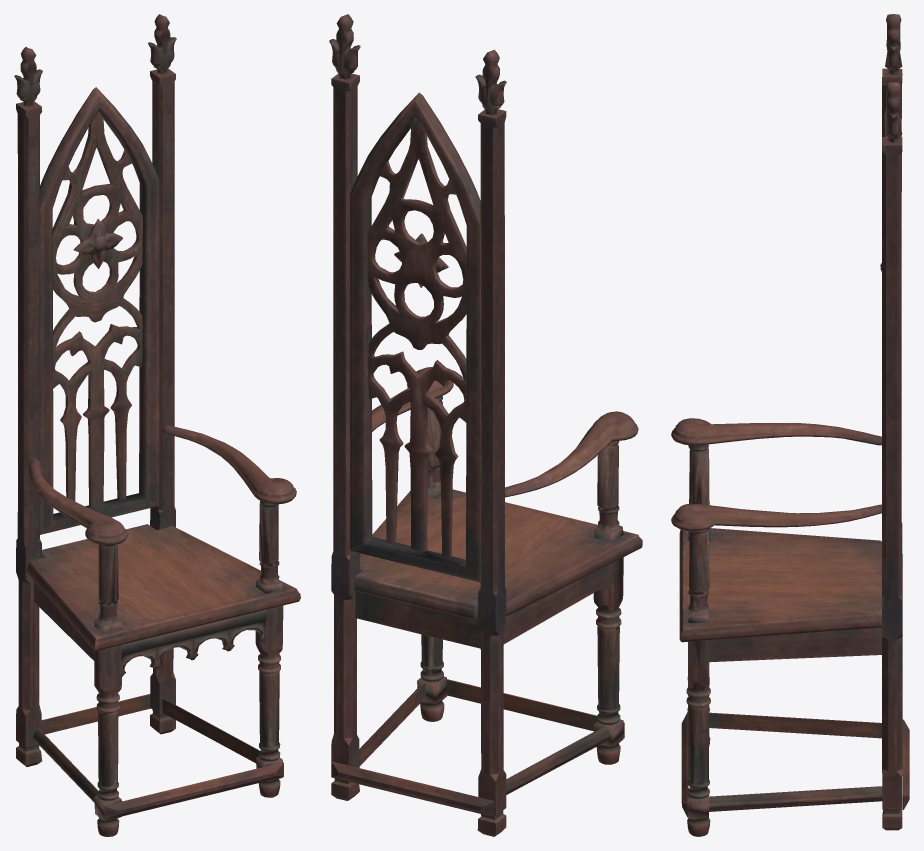
File: woodenchair_01.glb
The picture shows the model from 3 angles, left to right: view 1: azimuth 30°, elevation 25°; view 2: azimuth 150°, elevation 25°; view 3: azimuth 270°, elevation 25°; orthographic projection. The views are drawn at different scales.
Parts seen in each view (by area): view 1: WoodenChair_01; view 2: WoodenChair_01; view 3: WoodenChair_01.
Part boxes in pixels (box(x1,y1,x2,y2)): WoodenChair_01: box(14, 14, 300, 836); WoodenChair_01: box(329, 14, 642, 836); WoodenChair_01: box(671, 14, 909, 836).
Size of the model in its own units: 0.6878 by 2.27 by 0.6584.
1 material, 1 textured.
